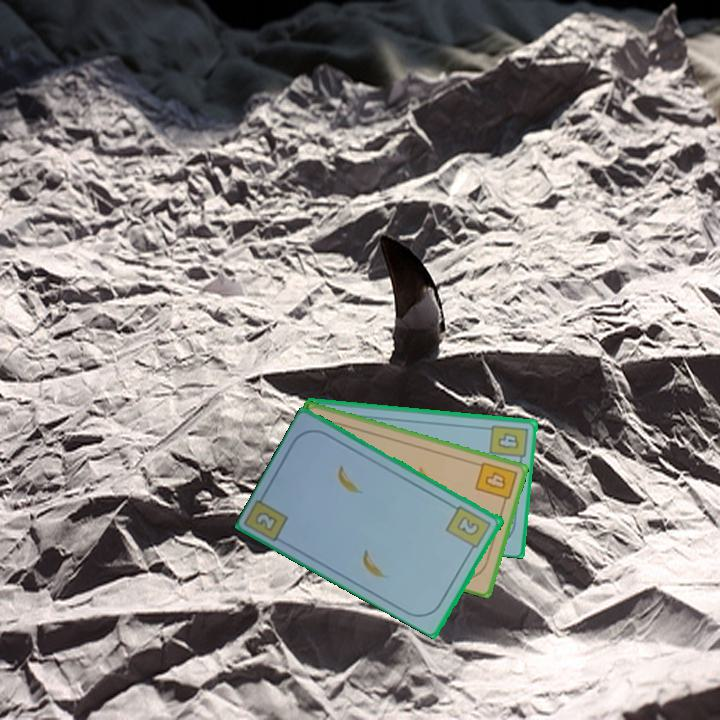2b: (443, 502, 494, 555), (251, 508, 281, 534)
4b: (472, 458, 520, 508), (486, 421, 530, 467)
